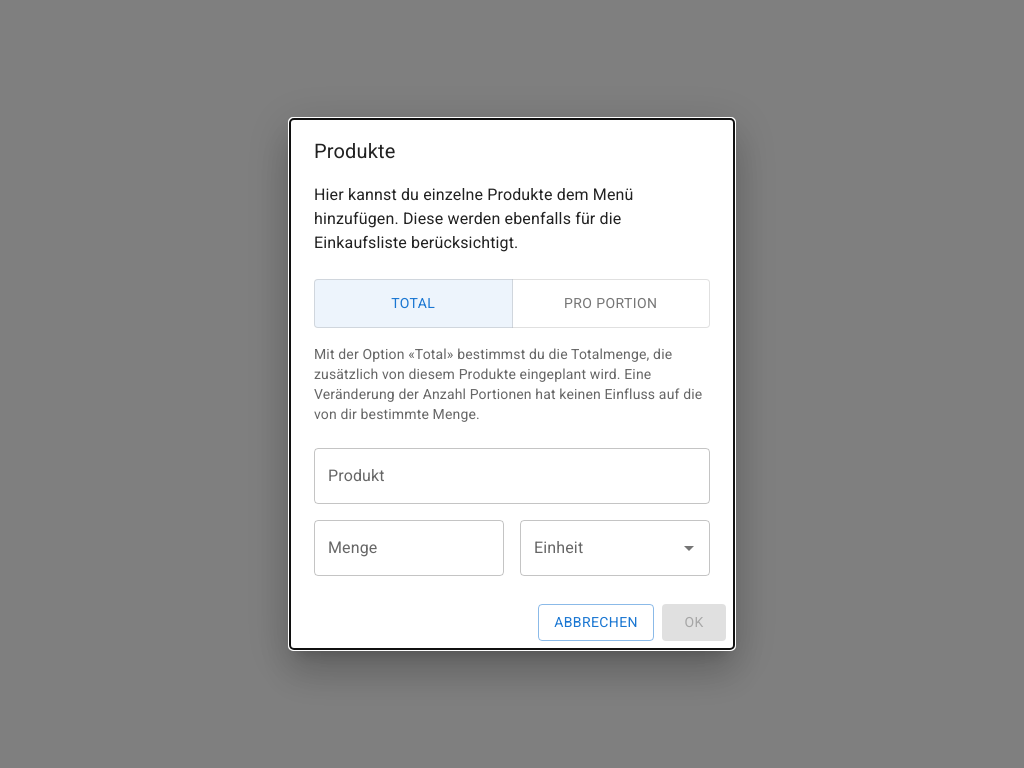
Test case: DialogGoods › sollte Fehlermeldung bei zu grosser Menge anzeigen
The image size is (1024, 768).
Menge auf 100000 setzen
Type "100000" into the number field labelled "Menge" at (409, 548), box [314,520,504,576]
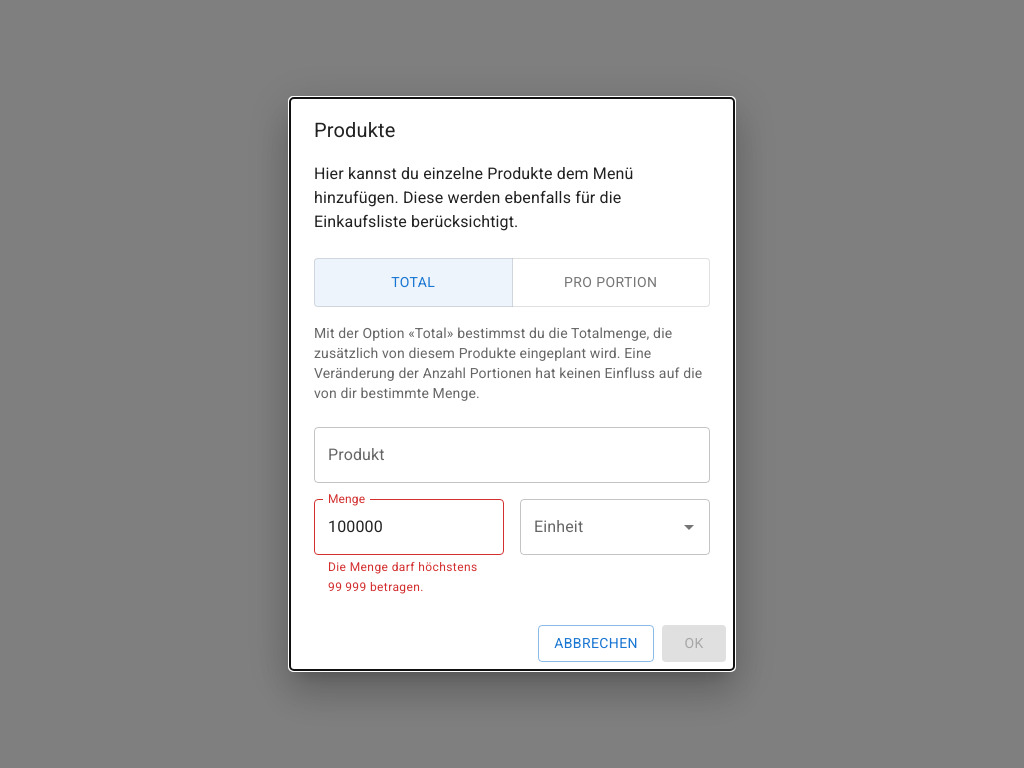
Result: the text "Die Menge darf höchstens 99 999 betragen." is shown at [328,558,490,597]
